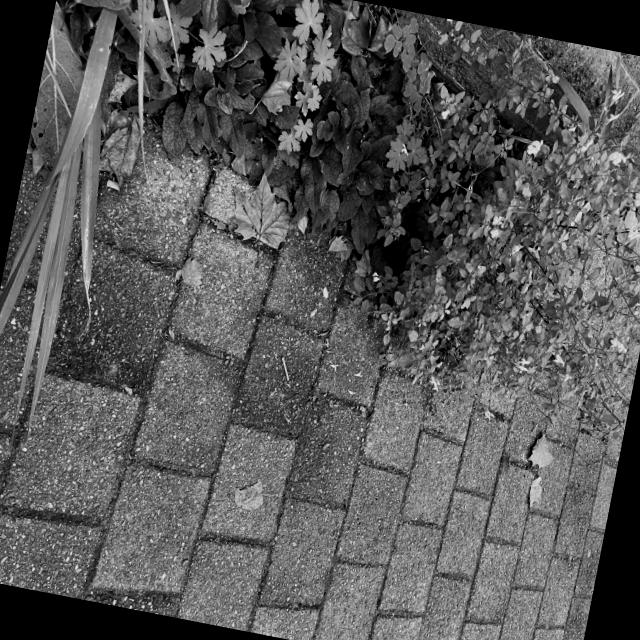leaves: (269, 479, 320, 568), (485, 117, 538, 159), (310, 594, 339, 640), (491, 496, 522, 534)
pavement: (480, 148, 640, 389), (388, 358, 622, 488), (350, 539, 579, 640), (505, 33, 640, 143)
plants: (103, 81, 439, 628)
